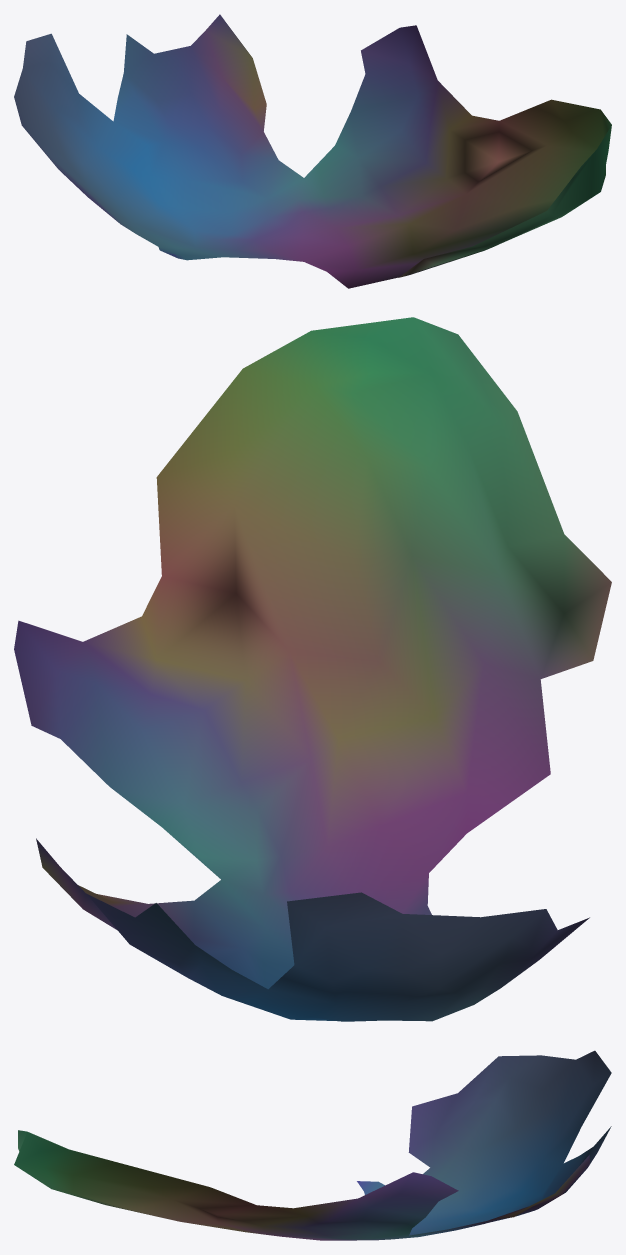
File: space-nebulae-nebula_v54.glb
3 views of the same model, one above another, from view 1: azimuth 30°, elevation 25°; view 2: azimuth 150°, elevation 25°; view 3: azimuth 270°, elevation 25° (orthographic). The views are drawn at different scales.
Parts seen in each view (by area): view 1: Nebula_v54; view 2: Nebula_v54; view 3: Nebula_v54.
Part boxes in pixels (x1=…): Nebula_v54: x1=14, y1=14, x2=611, y2=288; Nebula_v54: x1=14, y1=317, x2=611, y2=1021; Nebula_v54: x1=14, y1=1050, x2=611, y2=1240.
Size of the model in its own units: 0.3441 by 0.1657 by 0.5.
